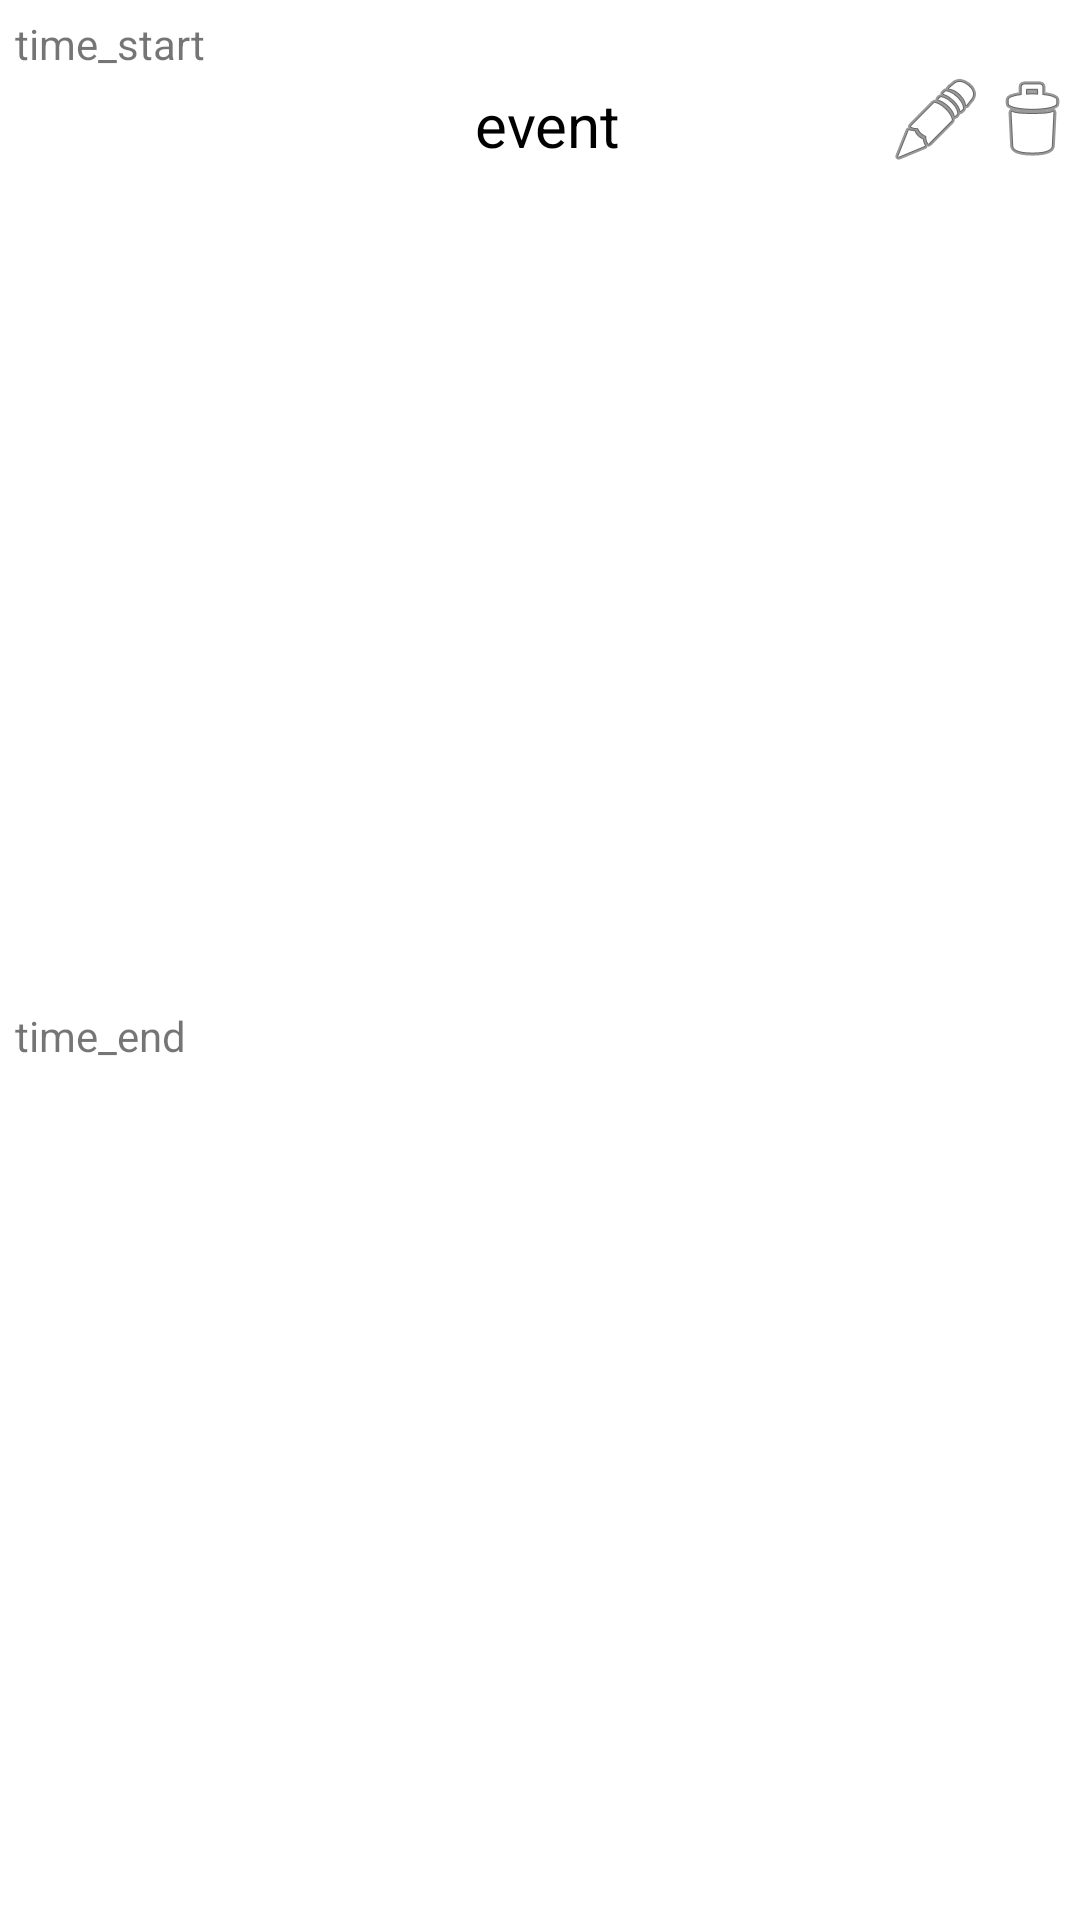

Icon bounding boxes for this 1080x1920 phone screenshot, format (x1=x1, y1=y1, x2=x2, y2=y2):
delete: (x1=1005, y1=81, x2=1060, y2=156)
edit: (x1=895, y1=79, x2=976, y2=160)
